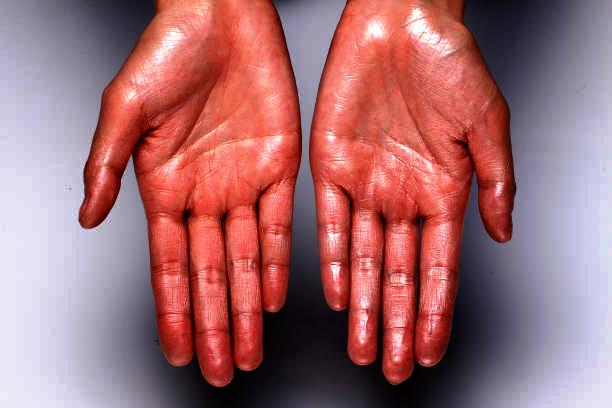Paper: (74, 14, 306, 390), (308, 23, 520, 389)
